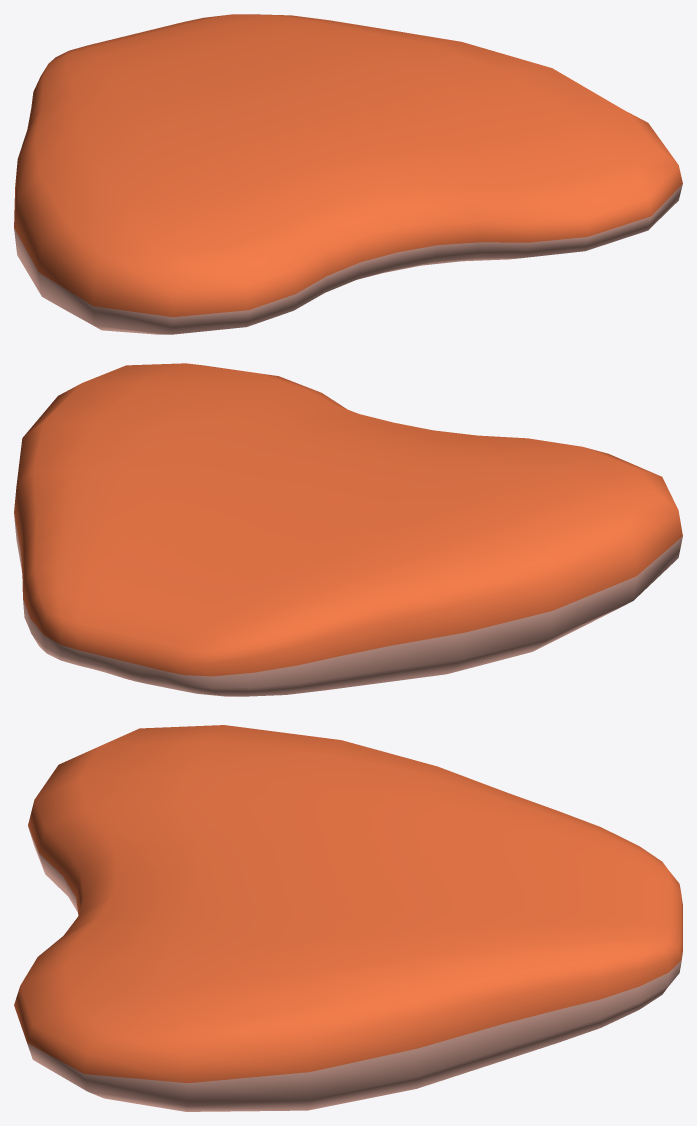
Rendered from WEB3_MENU(1MESH)_MAIN.gltf.
The picture shows the model from 3 angles, top to bottom: view 1: azimuth 30°, elevation 25°; view 2: azimuth 150°, elevation 25°; view 3: azimuth 270°, elevation 25°; orthographic projection. The views are drawn at different scales.
Parts seen in each view (by area): view 1: Cube; view 2: Cube; view 3: Cube.
Part boxes in pixels (x1,y1,x2,y2): Cube: (14,14,682,334); Cube: (14,363,682,696); Cube: (14,725,682,1111).
Bounding box in the file's own units: 3.44 × 0.6502 × 3.09.
